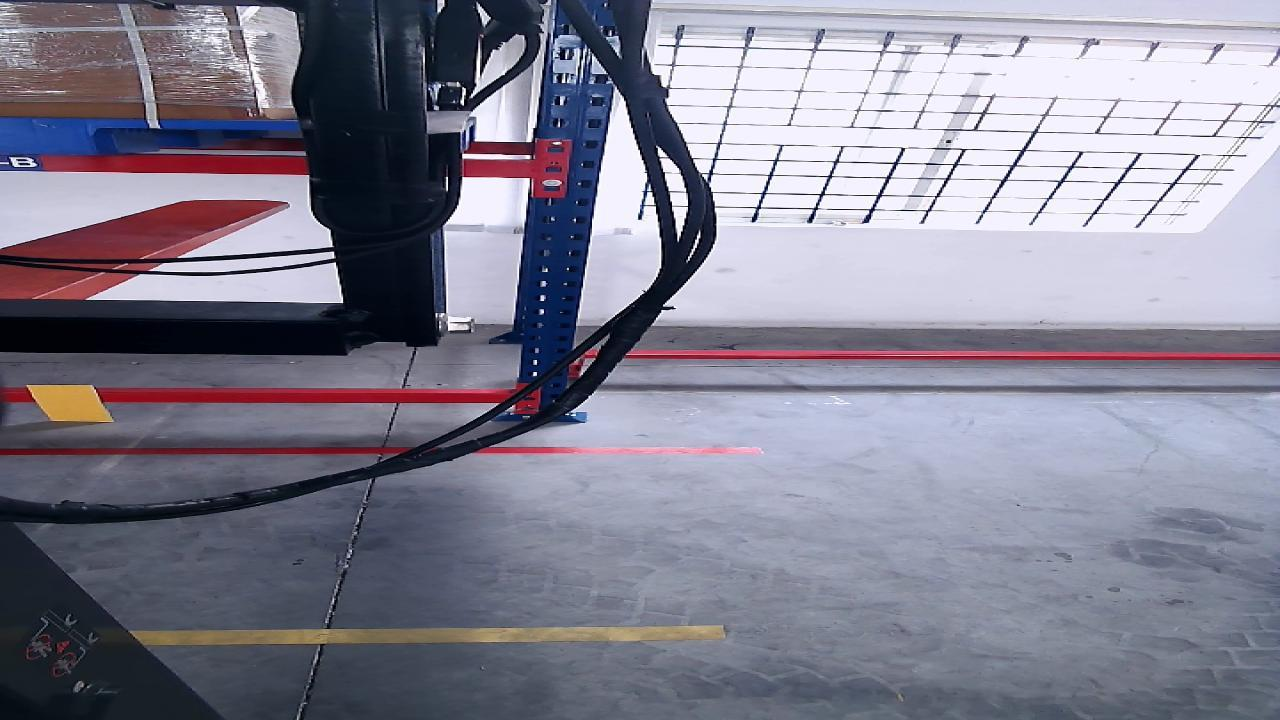h_rack: (0, 155, 533, 177), (3, 392, 511, 402)
orange_strip: (32, 385, 109, 421)
red_line: (0, 447, 758, 454)
yellow_line: (132, 621, 728, 644)
